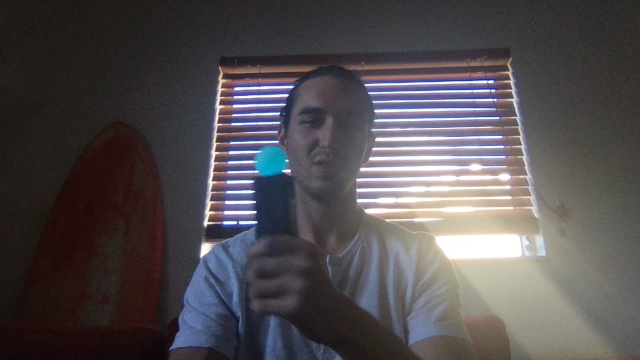wand: (256, 148, 288, 176)
